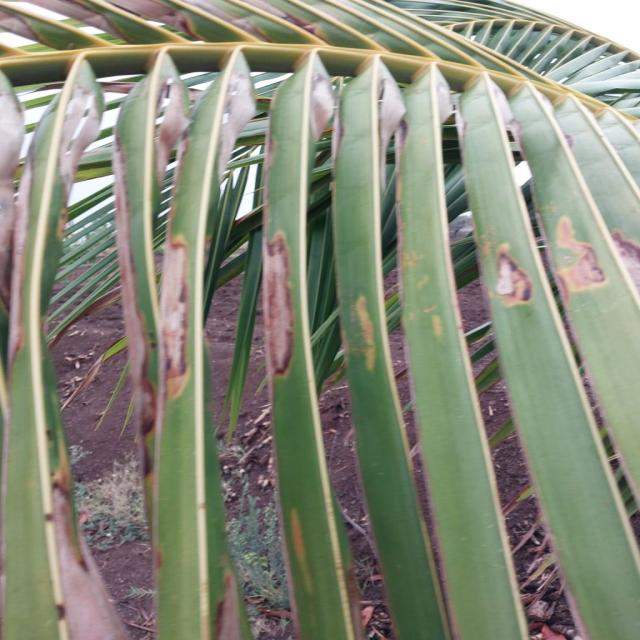gray leaf spot: (487, 188, 640, 338), (0, 0, 370, 55), (0, 66, 60, 332), (40, 479, 128, 640), (254, 233, 312, 396), (157, 241, 199, 423), (292, 58, 328, 142)
